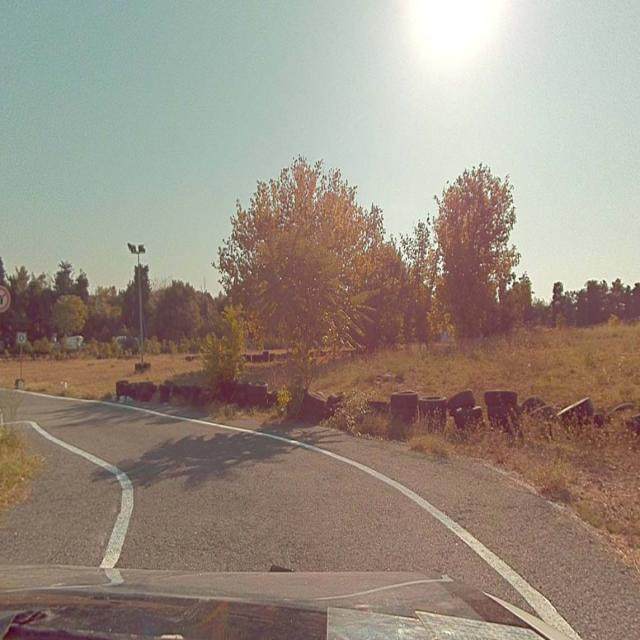durak: (18, 333, 26, 343)
